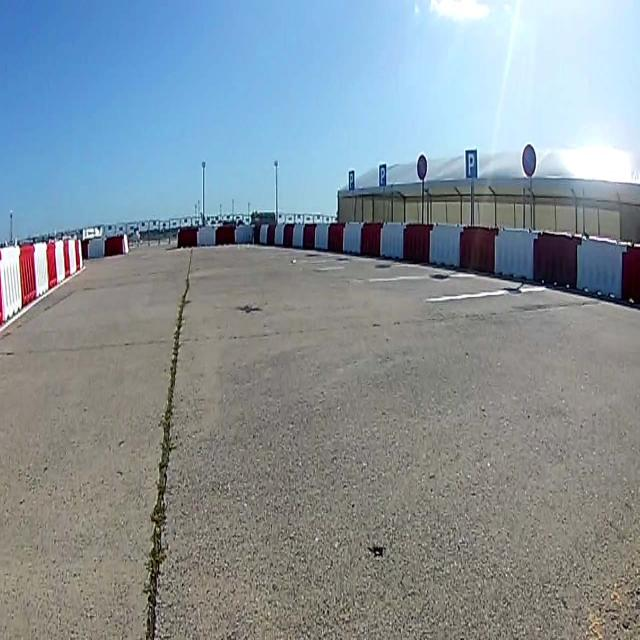park: (464, 149, 478, 179), (379, 164, 386, 187), (349, 171, 355, 190)
parkyasak: (522, 143, 536, 176), (417, 153, 428, 181)
